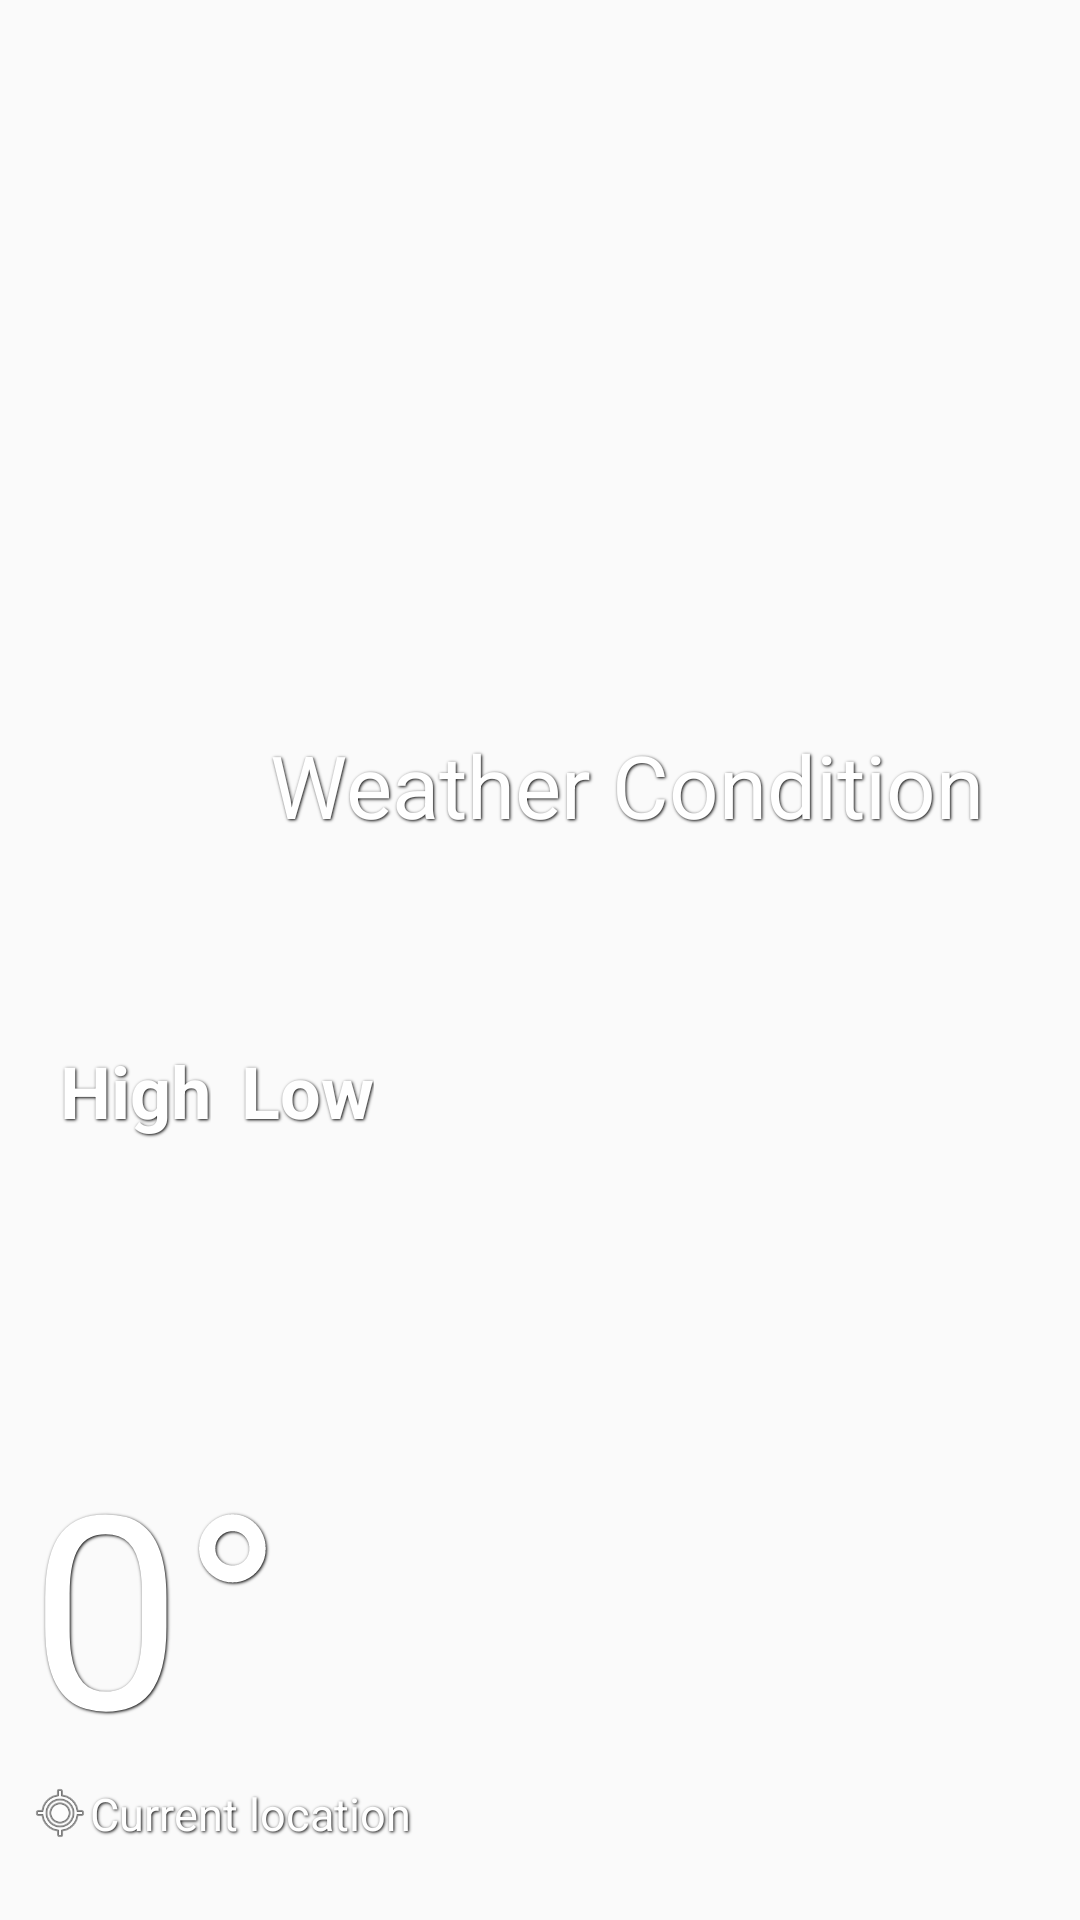

Screen size 1080 × 1920. Icon name, then its center in pixels as [x,y]:
mylocation: [60,1813]
